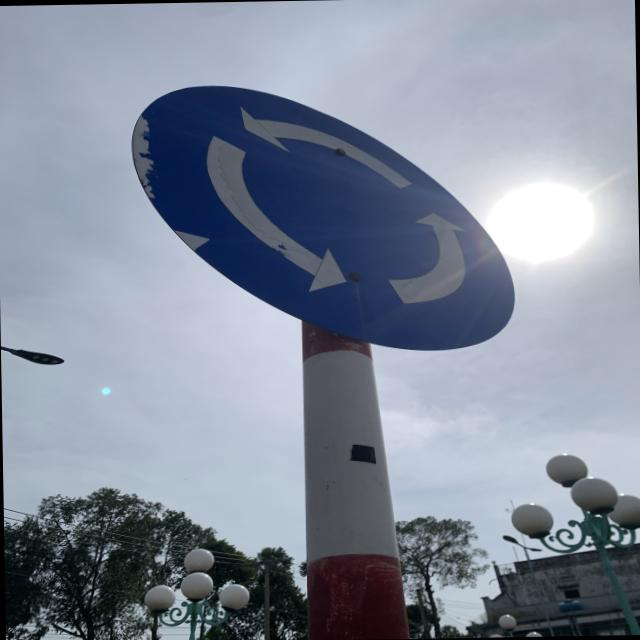Xe_Bus: (130, 79, 516, 357)
